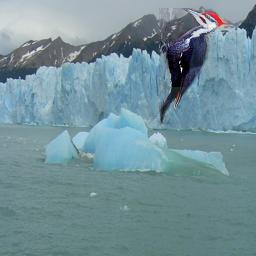Woodpecker: (159, 8, 231, 126)
